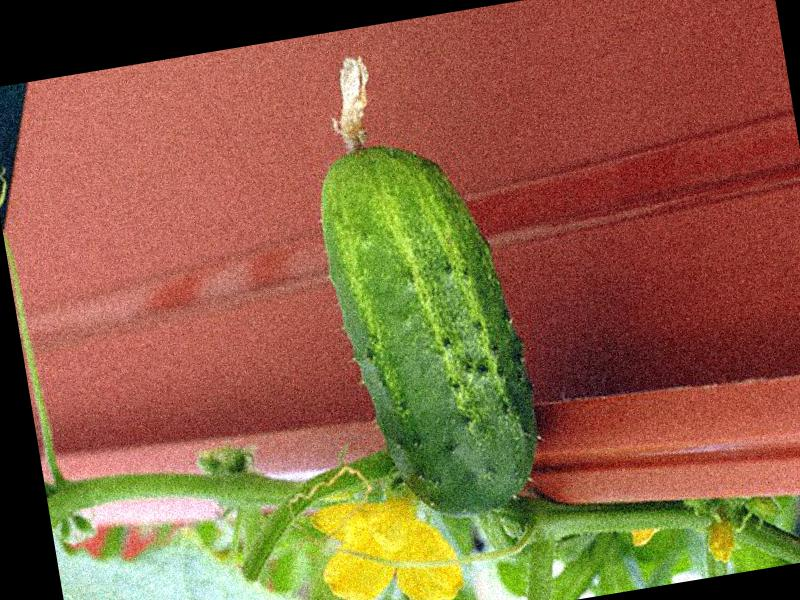Cucumber: (292, 34, 549, 534)
